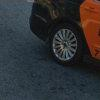Car: (26, 2, 99, 64)
